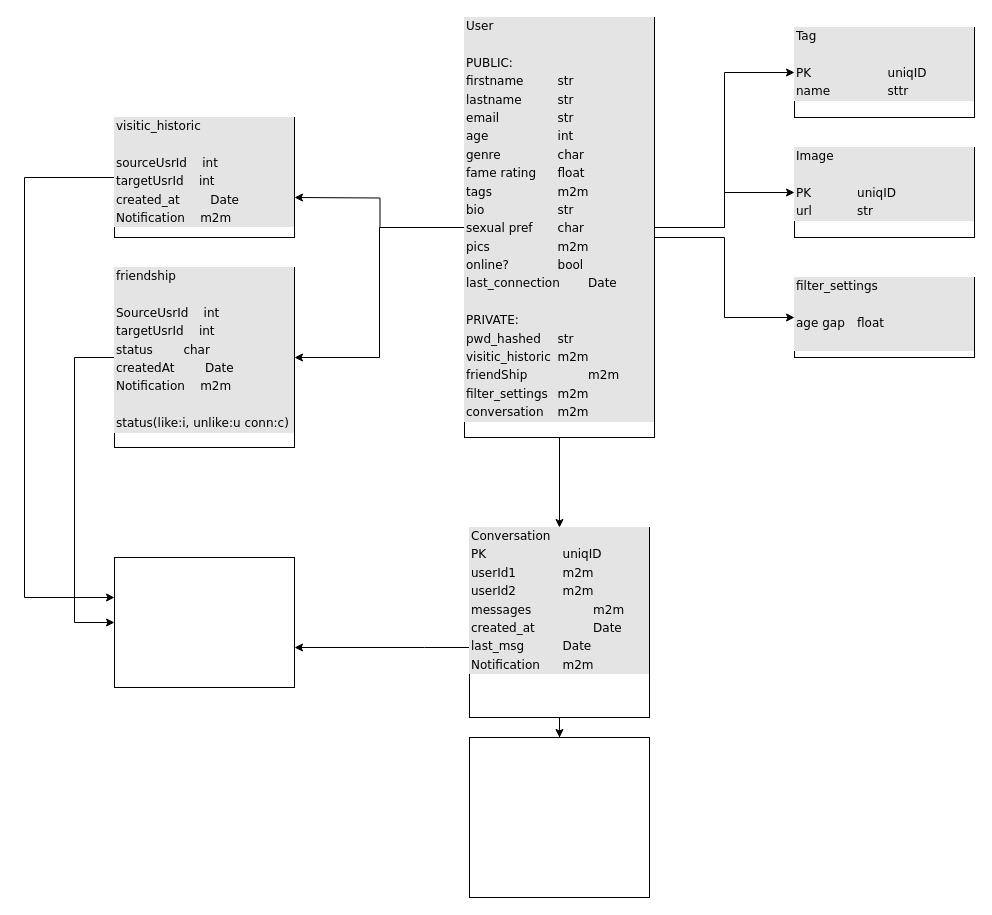
Image size: 992x915. Some labels were removed from this diagram. Each missing label, with the centre of its shape:
"Message sourceUsrId1 int targetUsrId2 int created_at Date" belongs at [559,817].
"Notification visit_historic m2m friendship m2m conversation m2m" belongs at [204,622].
